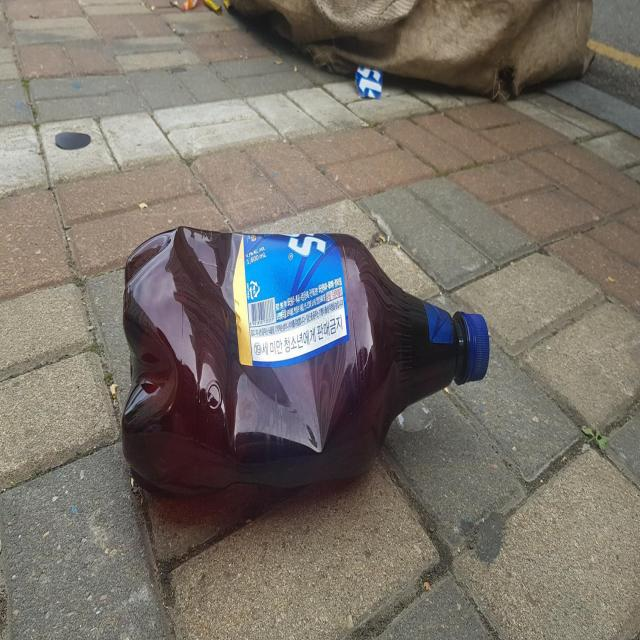plastic: (122, 225, 490, 493)
